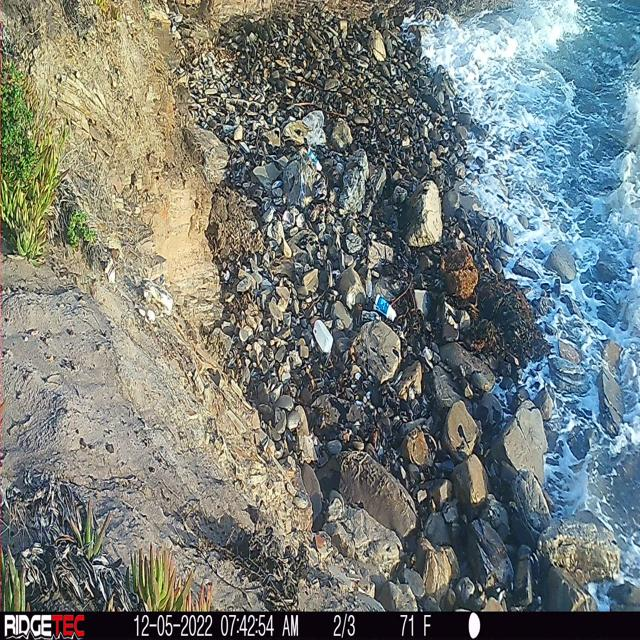bird: (304, 160, 334, 213)
